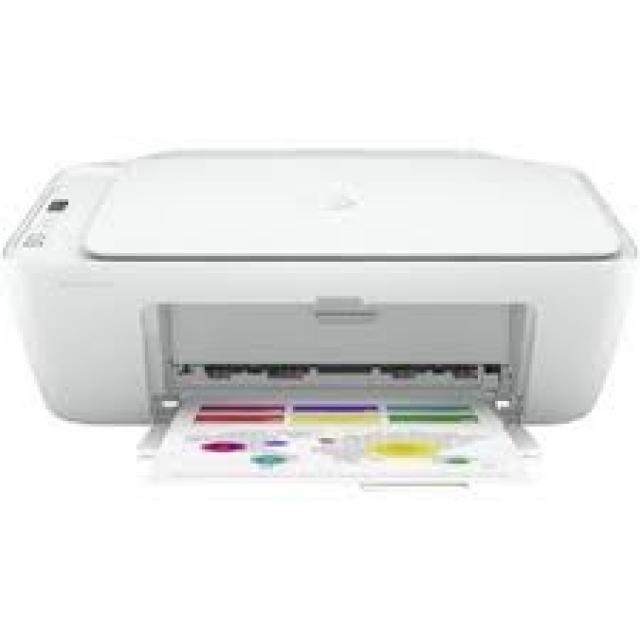printer: (0, 142, 637, 478)
